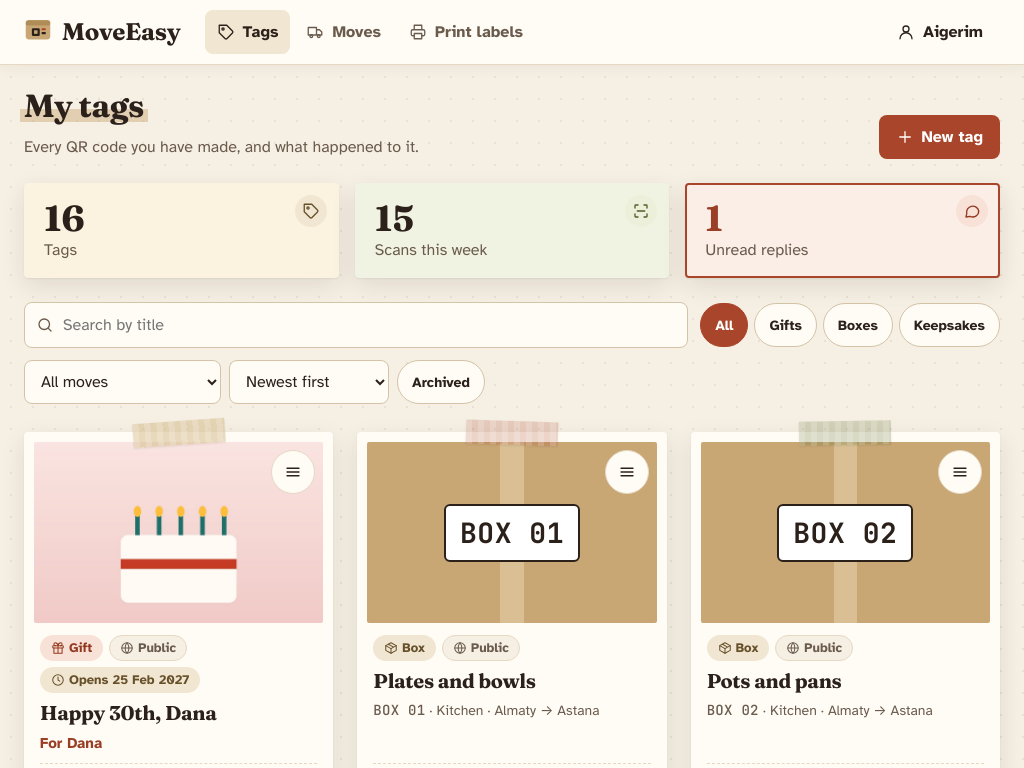
shows the top bar and navigates between sections
Expected: the link with aria-label "MoveEasy home" is shown, [24,10,181,54]
Expected: the navigation bar named "Main" is shown, [205,10,1000,54]
Click the link "Moves".
click(344, 32)  # box [306,22,381,42]
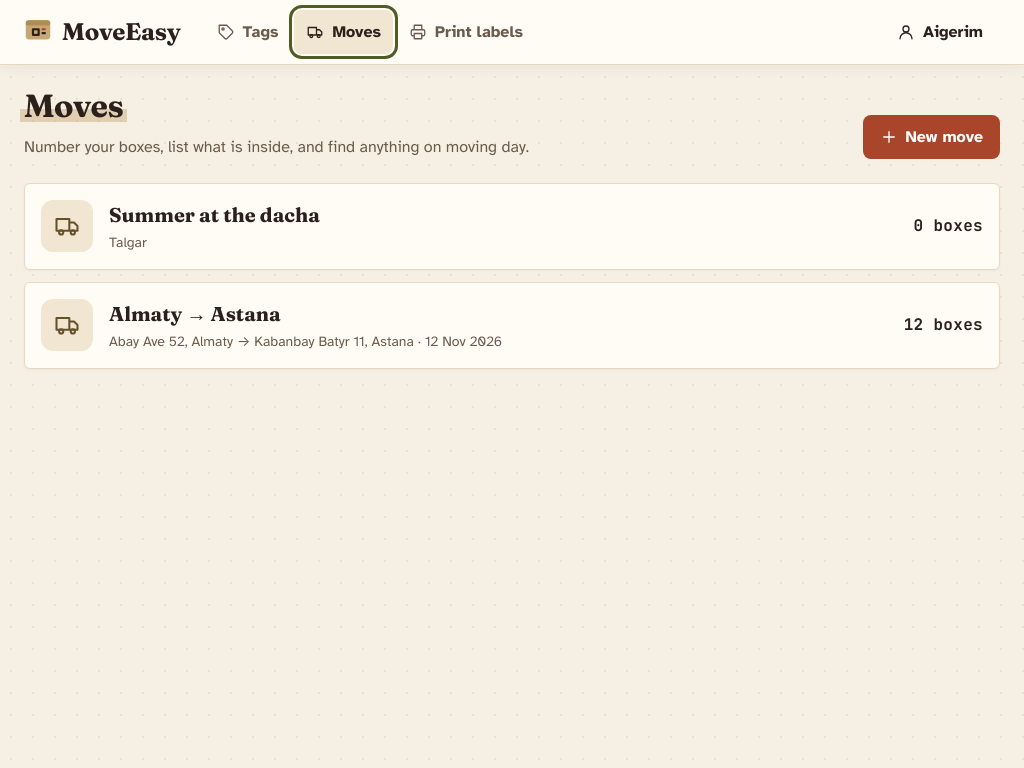
Now the heading "Moves" is shown, box [20,86,127,125]
